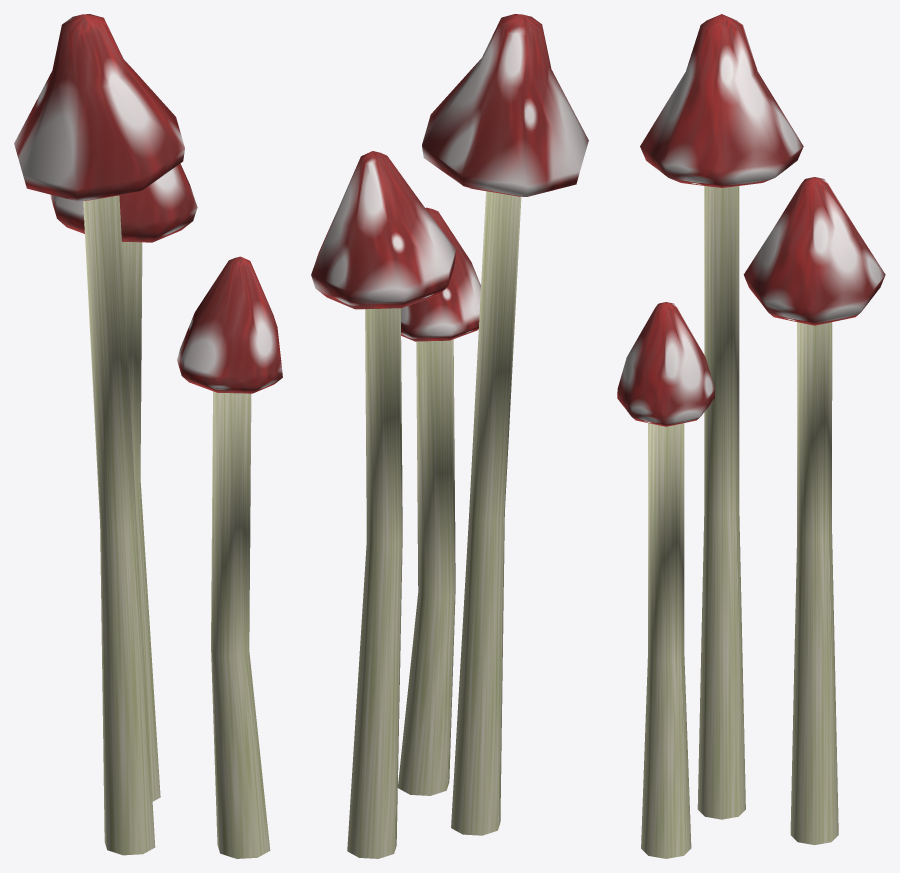
The model's file is cave_shrooms_floor2.glb.
The picture shows the model from 3 angles, left to right: view 1: azimuth 30°, elevation 25°; view 2: azimuth 150°, elevation 25°; view 3: azimuth 270°, elevation 25°; orthographic projection. The views are drawn at different scales.
Parts seen in each view (by area): view 1: floor_shroom2-col; view 2: floor_shroom2-col; view 3: floor_shroom2-col.
Part boxes in pixels (x1,y1,x2,y2): floor_shroom2-col: [14, 14, 282, 858]; floor_shroom2-col: [311, 14, 588, 858]; floor_shroom2-col: [617, 14, 885, 858].
Size of the model in its own units: 0.5448 by 1.95 by 0.6118.
1 material, 1 textured.
